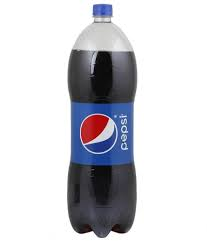Pepsi: (62, 6, 137, 237)
